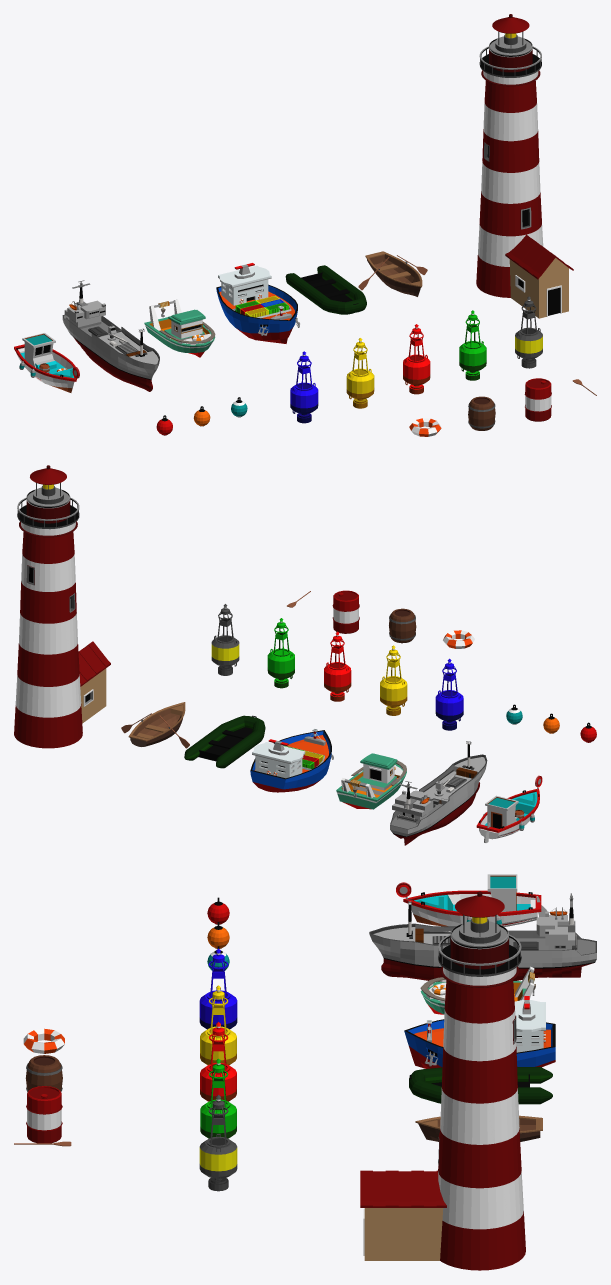
File: sea-ships-pack.glb
3 renders of one model, top to bottom at view 1: azimuth 30°, elevation 25°; view 2: azimuth 150°, elevation 25°; view 3: azimuth 270°, elevation 25°, orthographic. The views are drawn at different scales.
Visible parts, largest first — view 1: Lighthouse, big_ship_2, Cargo_Ship_LowPoly, FishingBoat, resin_boat, fishingboat_greek, Boat, buoy_lowpoly.003, buoy_lowpoly.004, buoy_lowpoly.002, buoy_lowpoly.001, buoy_lowpoly (+2 smaller); view 2: Lighthouse, big_ship_2, Cargo_Ship_LowPoly, FishingBoat, resin_boat, fishingboat_greek, Boat, buoy_lowpoly.004, buoy_lowpoly.003, buoy_lowpoly.002, buoy_lowpoly.001, buoy_lowpoly (+2 smaller); view 3: Lighthouse, big_ship_2, fishingboat_greek, Cargo_Ship_LowPoly, resin_boat, buoy_lowpoly.004, barell_oil, buoy_lowpoly.003, buoy_lowpoly.002, buoy_lowpoly, buoy_lowpoly.001, FishingBoat (+3 smaller).
Part boxes in pixels (x1=…): Lighthouse: x1=476, y1=14, x2=573, y2=318; big_ship_2: x1=62, y1=280, x2=159, y2=391; Cargo_Ship_LowPoly: x1=216, y1=263, x2=299, y2=343; FishingBoat: x1=144, y1=299, x2=215, y2=357; resin_boat: x1=285, y1=265, x2=366, y2=314; fishingboat_greek: x1=14, y1=333, x2=79, y2=392; Boat: x1=365, y1=251, x2=422, y2=296; buoy_lowpoly.003: x1=290, y1=351, x2=318, y2=423; buoy_lowpoly.004: x1=515, y1=296, x2=542, y2=368; buoy_lowpoly.002: x1=346, y1=338, x2=374, y2=408; buoy_lowpoly.001: x1=459, y1=310, x2=486, y2=380; buoy_lowpoly: x1=403, y1=324, x2=430, y2=394; Lighthouse: x1=14, y1=465, x2=110, y2=748; big_ship_2: x1=390, y1=741, x2=487, y2=845; Cargo_Ship_LowPoly: x1=250, y1=728, x2=333, y2=792; FishingBoat: x1=336, y1=753, x2=406, y2=809; resin_boat: x1=184, y1=715, x2=265, y2=768; fishingboat_greek: x1=476, y1=775, x2=542, y2=842; Boat: x1=128, y1=702, x2=185, y2=746; buoy_lowpoly.004: x1=211, y1=604, x2=239, y2=675; buoy_lowpoly.003: x1=435, y1=658, x2=463, y2=730; buoy_lowpoly.002: x1=380, y1=645, x2=407, y2=715; buoy_lowpoly.001: x1=267, y1=618, x2=294, y2=688; buoy_lowpoly: x1=324, y1=631, x2=351, y2=701; Lighthouse: x1=360, y1=891, x2=525, y2=1270; big_ship_2: x1=369, y1=893, x2=596, y2=981; fishingboat_greek: x1=396, y1=874, x2=547, y2=926; Cargo_Ship_LowPoly: x1=404, y1=996, x2=555, y2=1068; resin_boat: x1=409, y1=1067, x2=552, y2=1104; buoy_lowpoly.004: x1=199, y1=1095, x2=237, y2=1191; barell_oil: x1=26, y1=1086, x2=62, y2=1143; buoy_lowpoly.003: x1=199, y1=948, x2=237, y2=1029; buoy_lowpoly.002: x1=200, y1=985, x2=236, y2=1065; buoy_lowpoly: x1=200, y1=1022, x2=236, y2=1101; buoy_lowpoly.001: x1=200, y1=1058, x2=236, y2=1138; FishingBoat: x1=420, y1=966, x2=535, y2=1014.
Size of the model in its own units: 45.48 by 22.75 by 33.47.
19 materials, 19 textured.
